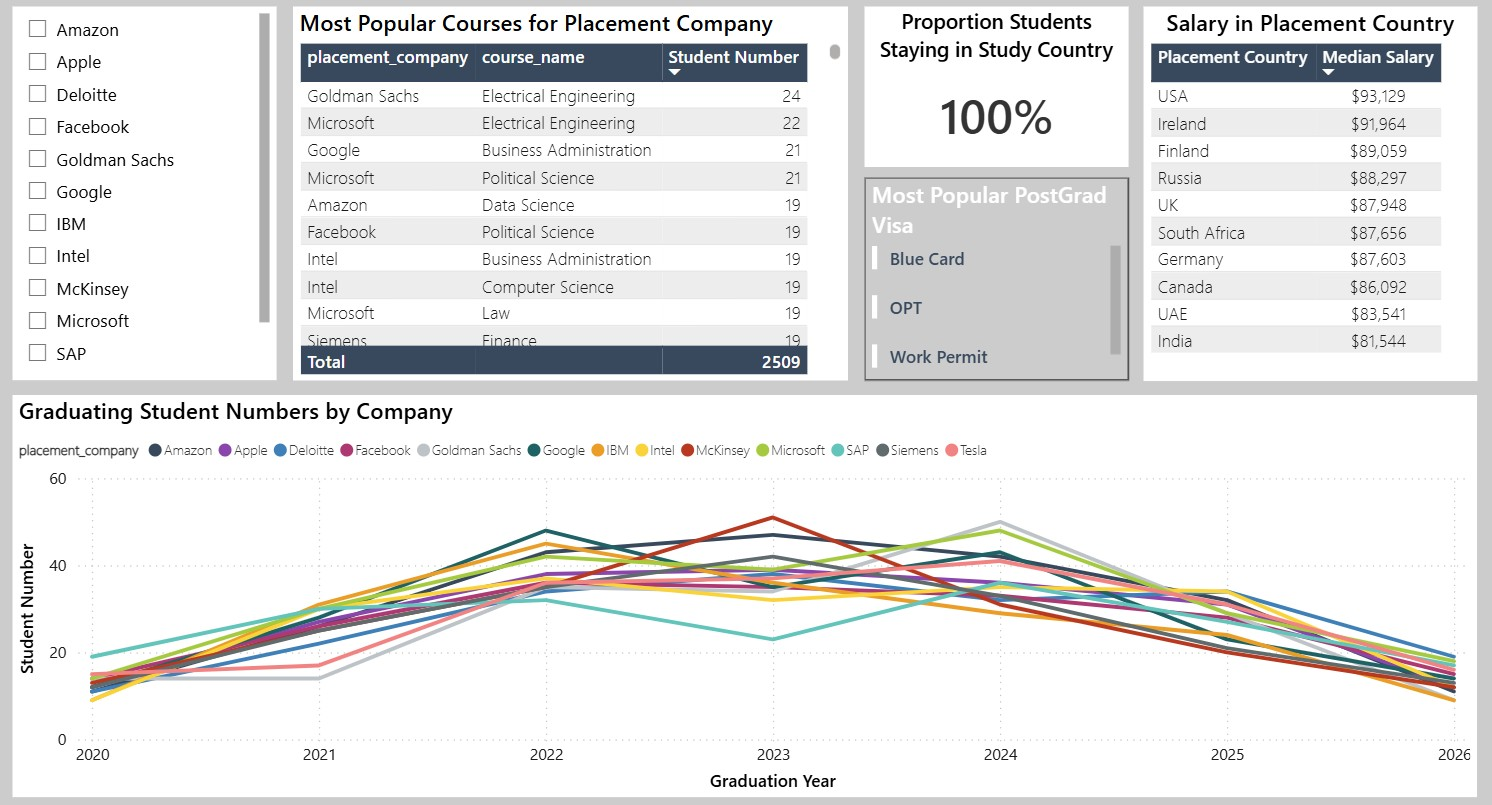

What the dashboard file says about the page in this screenshot:
{"tool":"powerbi","page":{"name":"Placement","canvas":[1280,720],"ordinal":3},"visuals":[{"type":"textbox","box":[373.3,21.1,598.3,53.4],"z":0},{"type":"tableEx","title":"Salary in Placement Country","fields":{"Values":["global_student_migration.placement_country","global_student_migration.Median Placement Salary"]},"box":[944.5,96.2,257.9,289.3],"z":1000},{"type":"card","title":"Proportion Students Staying in Study Country","fields":{"Values":["global_student_migration.ProportionPlacementCountryMatch"]},"box":[728.4,96.3,203.9,123.7],"z":2000},{"type":"tableEx","title":"Most Popular Courses for Placement Company","fields":{"Values":["global_student_migration.placement_company","global_student_migration.course_name","global_student_migration.Student Number"]},"box":[286.8,96.3,428.2,289],"z":3000},{"type":"slicer","fields":{"Values":["global_student_migration.placement_company"]},"box":[71,96.3,203.9,289],"z":4000},{"type":"lineChart","title":"Graduating Student Numbers by Company","fields":{"Category":["global_student_migration.graduation_year"],"Y":["global_student_migration.Student Number"],"Series":["global_student_migration.placement_company"]},"box":[71,395.8,1131.2,310.7],"z":5000},{"type":"multiRowCard","title":"Most Popular PostGrad Visa","fields":{"Values":["global_student_migration.post_graduation_visa"]},"box":[728.4,228.5,203.9,156.8],"z":6000},{"type":"actionButton","box":[0,0,100,40],"z":7000},{"type":"actionButton","box":[1156.3,40.3,46.1,46.8],"z":8000}]}

Visuals, with their boxes on the page's 1280x720 design canvas (x1, y1, x2, y2). These are canvas units, not pixel positions in the 1492x805 screenshot, which may show the page scaled, cropped or inside an application window:
textbox: x1=373, y1=21, x2=972, y2=74
"Salary in Placement Country" tableEx: x1=944, y1=96, x2=1202, y2=386
"Proportion Students Staying in Study Country" card: x1=728, y1=96, x2=932, y2=220
"Most Popular Courses for Placement Company" tableEx: x1=287, y1=96, x2=715, y2=385
slicer - global_student_migration.placement_company: x1=71, y1=96, x2=275, y2=385
"Graduating Student Numbers by Company" lineChart: x1=71, y1=396, x2=1202, y2=706
"Most Popular PostGrad Visa" multiRowCard: x1=728, y1=228, x2=932, y2=385
actionButton: x1=0, y1=0, x2=100, y2=40
actionButton: x1=1156, y1=40, x2=1202, y2=87
